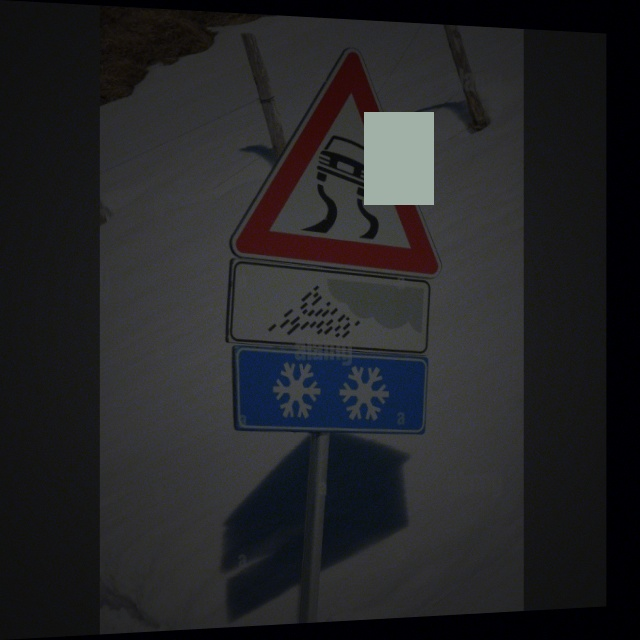Slippery_Road: (237, 43, 441, 271)
